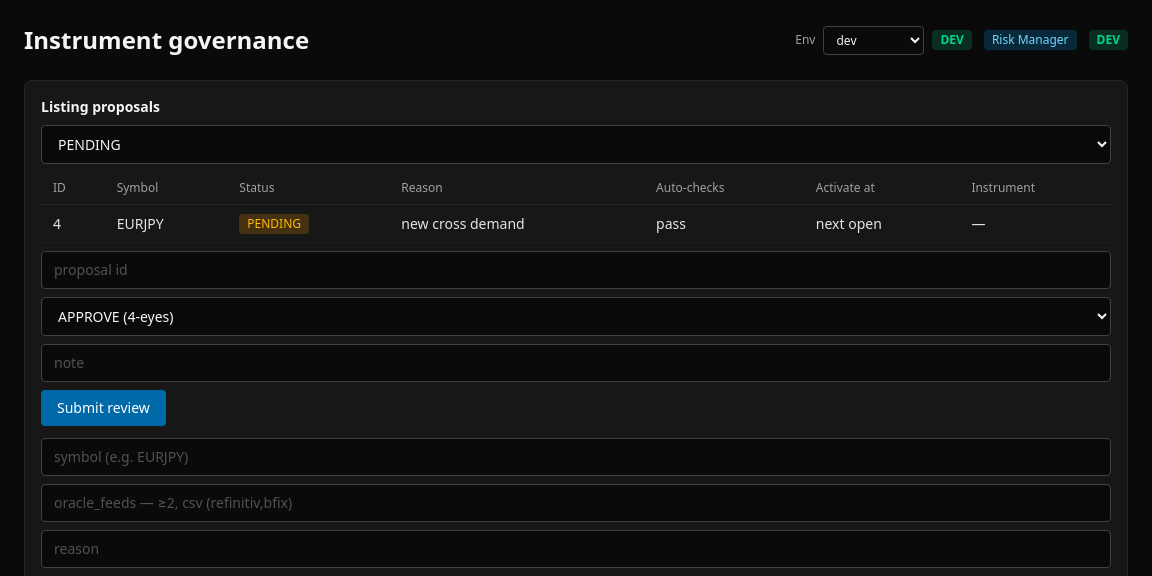
Test: InstrumentGovernancePage › files an APPROVE review as a four-eyes request (202 pending, not listed)
Type "4" into the field labelled "proposal id" at (576, 270), box [41,251,1111,289]
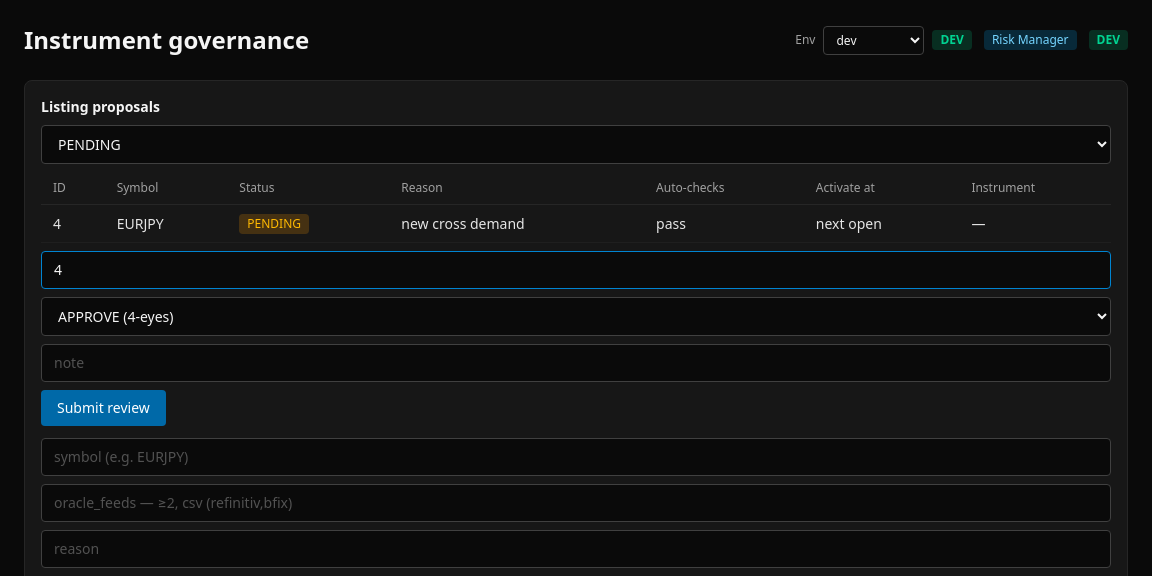
Type "ref data checked" into the field named "Review note" at (576, 363), box [41,344,1111,382]
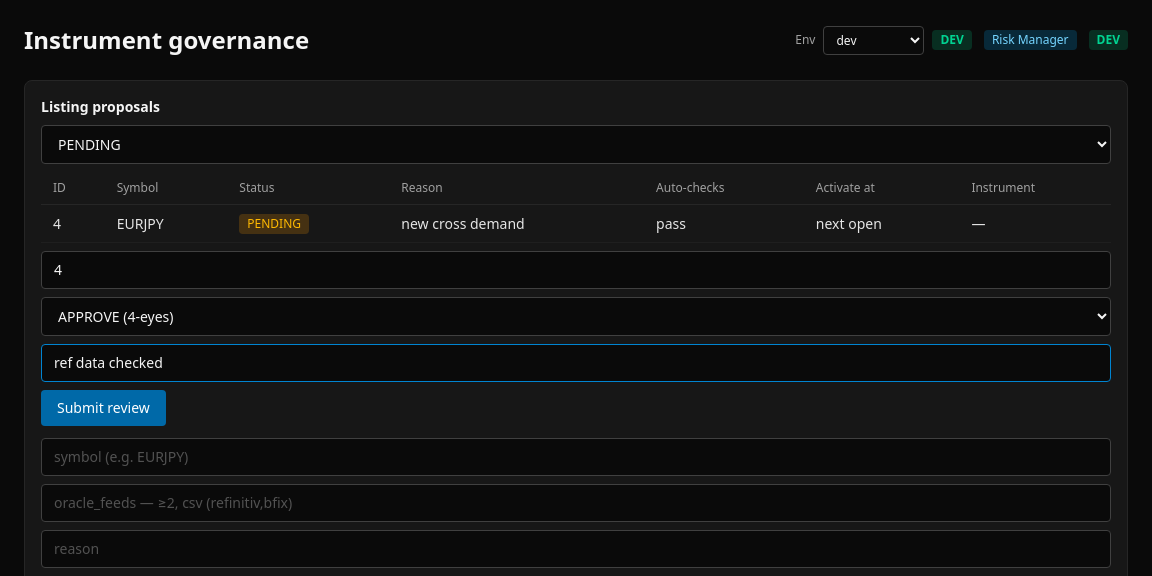
Click the button "Submit review" at (103, 408), box [41,390,166,426]
(page scrolled)
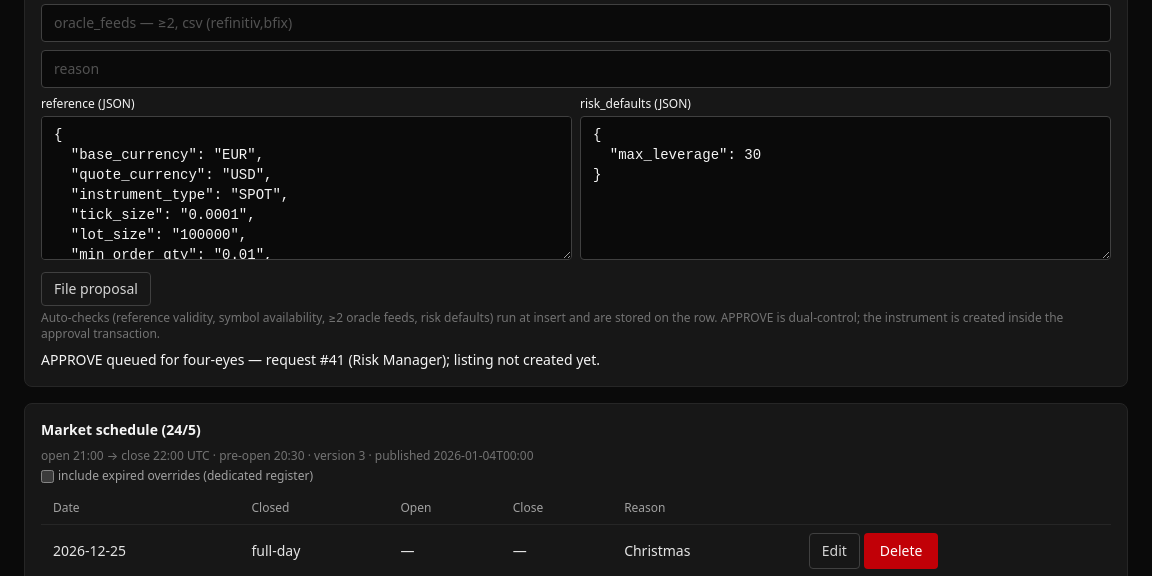
Expected: the text "queued for four-eyes — request #41" is shown, [41,350,600,369]
